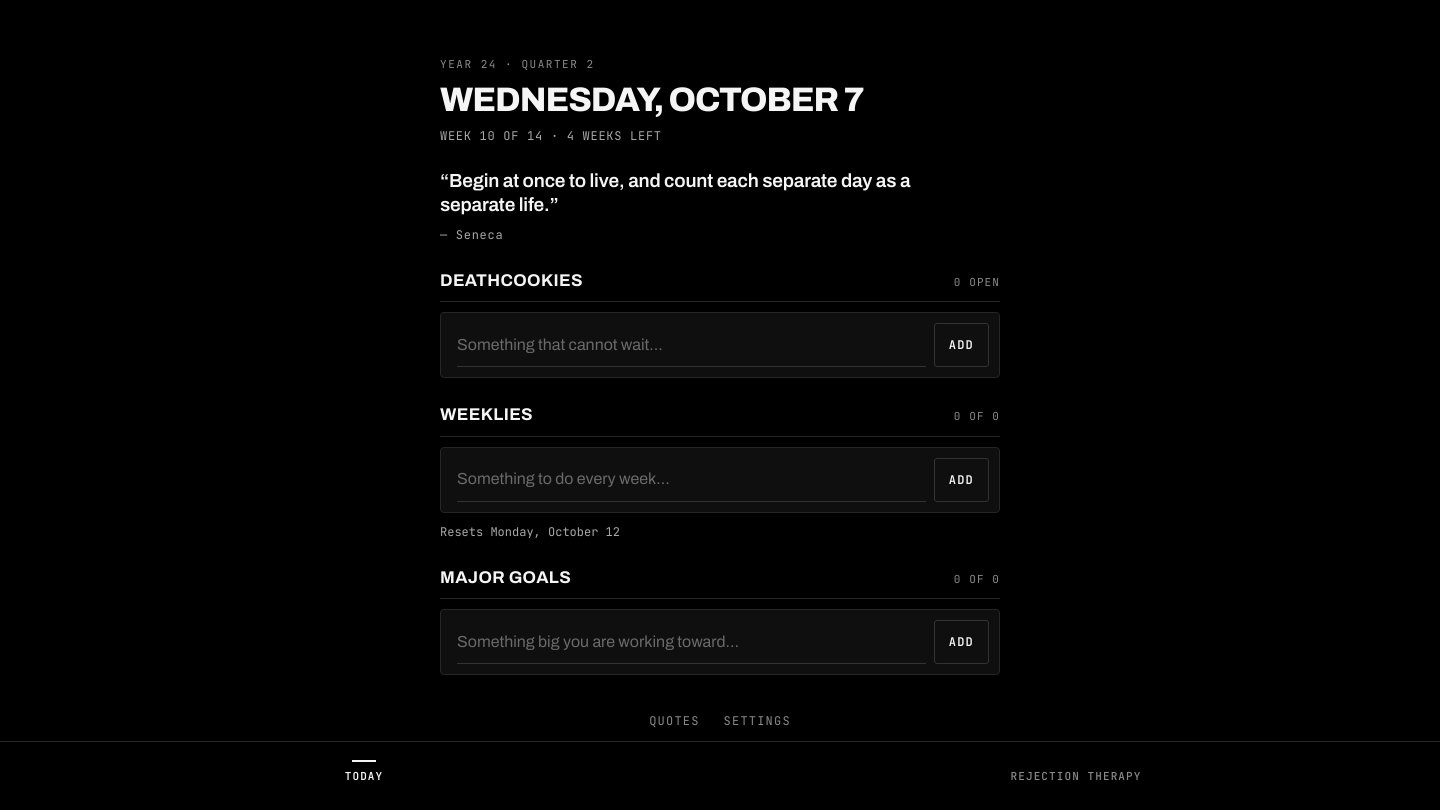
deathcookies › adds, ticks off and clears
The image size is (1440, 810).
In the field named "New deathcookie": {"x": 691, "y": 345} [457,323,926,367], type "Pay the deposit"
Then press Enter
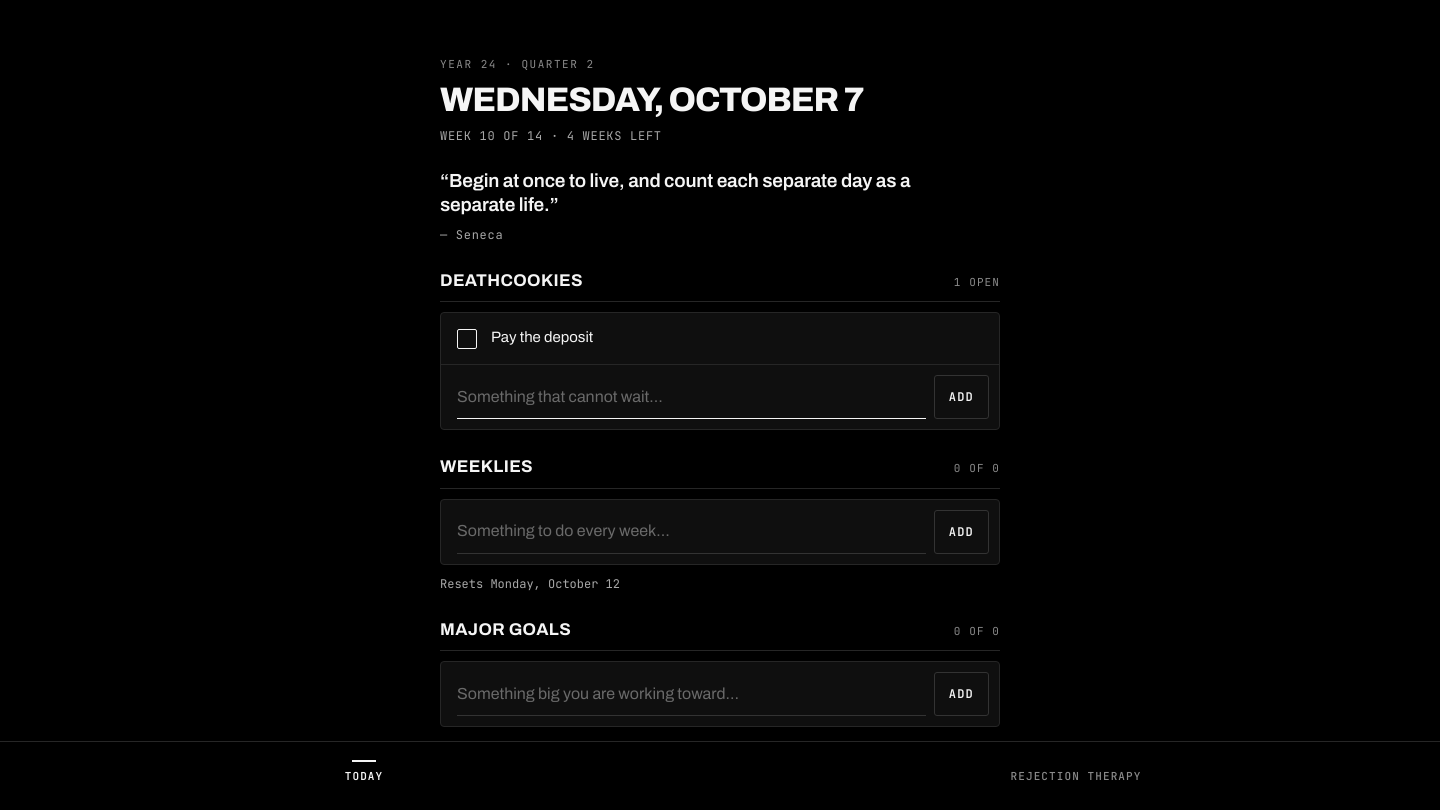
In the field named "New deathcookie": {"x": 691, "y": 397} [457,375,926,419], type "Renew the car tax"
Then press Enter
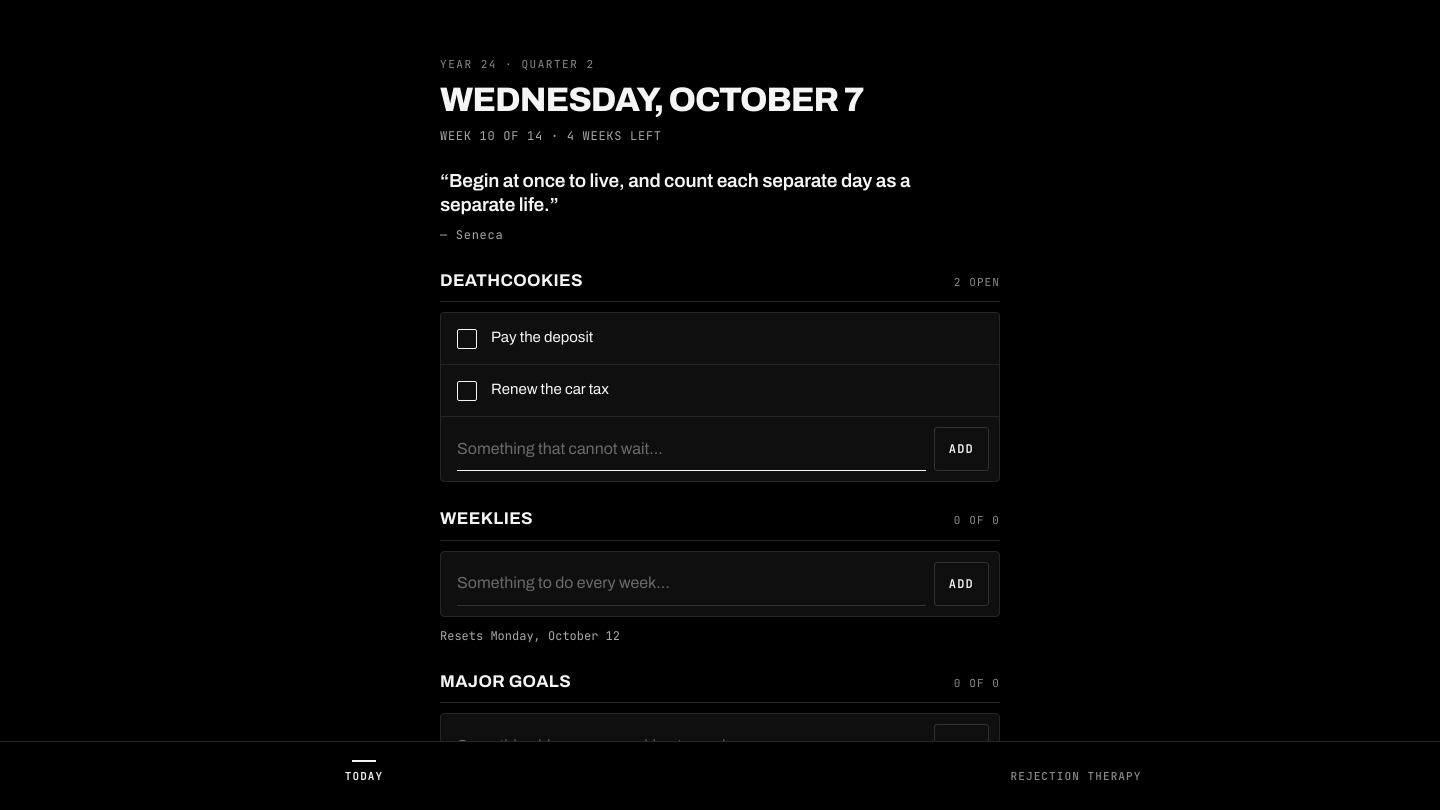
Result: the text "2 open" is shown at [954,274,1000,290]
Click the checkbox labelled "Pay the deposit": {"x": 542, "y": 337} [441,313,999,365]
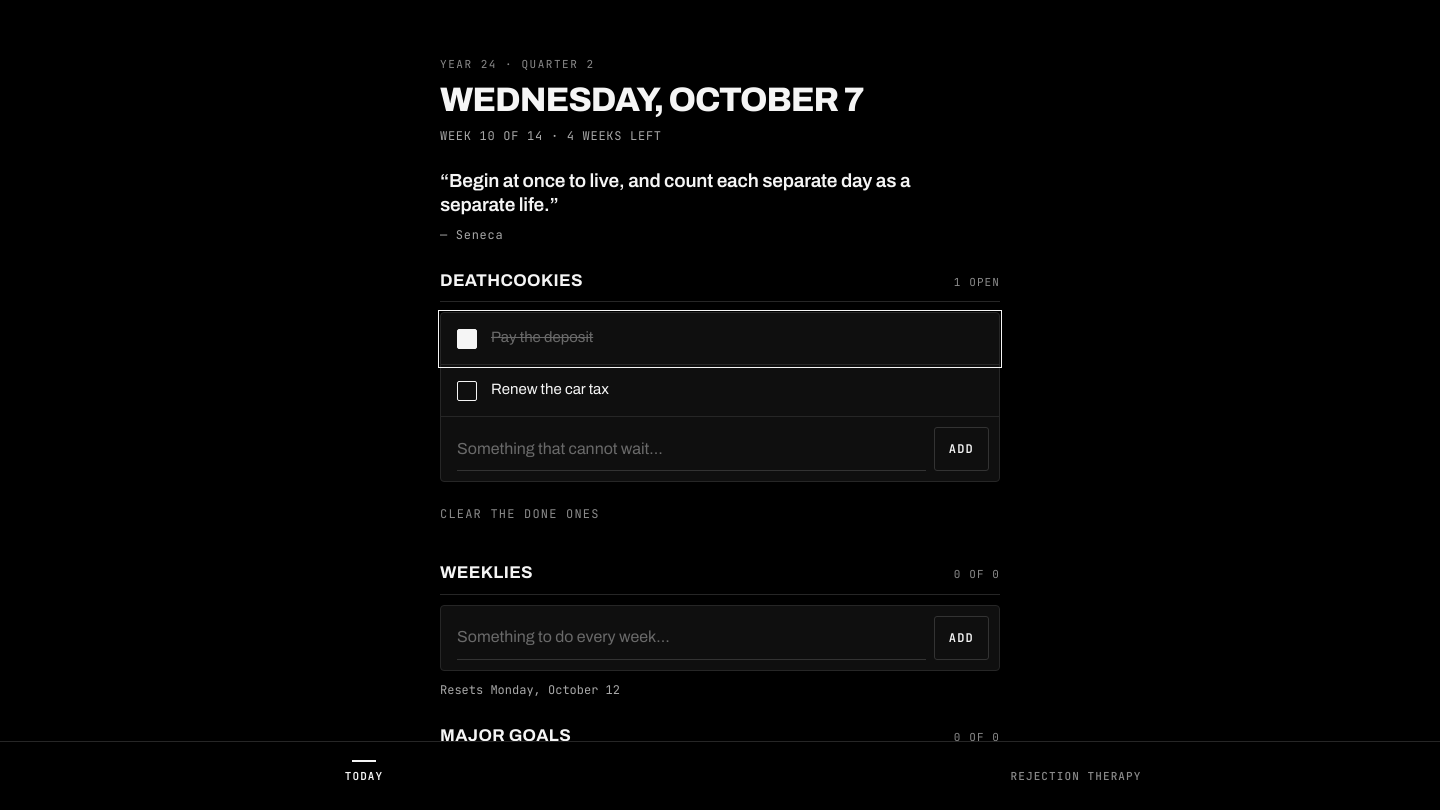
Result: the text "1 open" is shown at [954,274,1000,290]
Click the button "Clear the done ones": {"x": 520, "y": 514} [436,492,604,536]
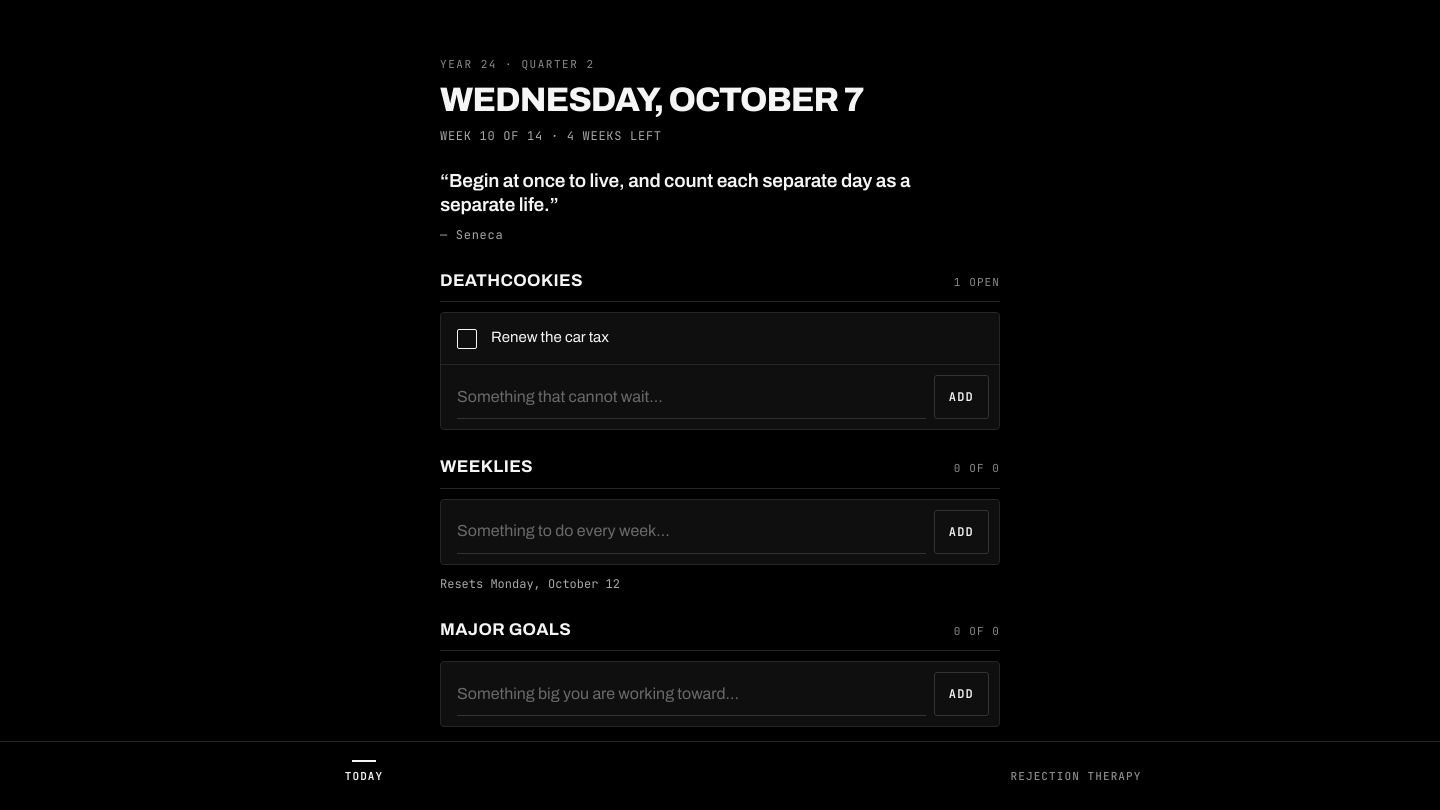
Result: the checkbox labelled "Renew the car tax" is shown at [441,313,999,365]
Result: the checkbox labelled "Pay the deposit" is gone
